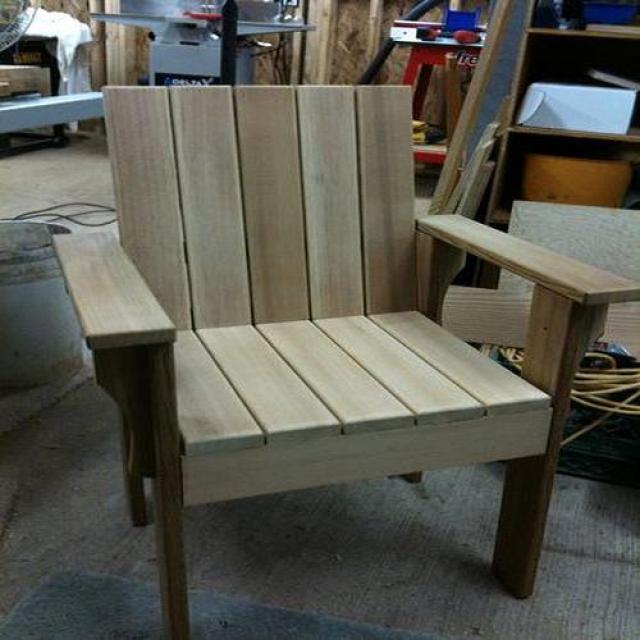chair: (55, 86, 640, 640)
